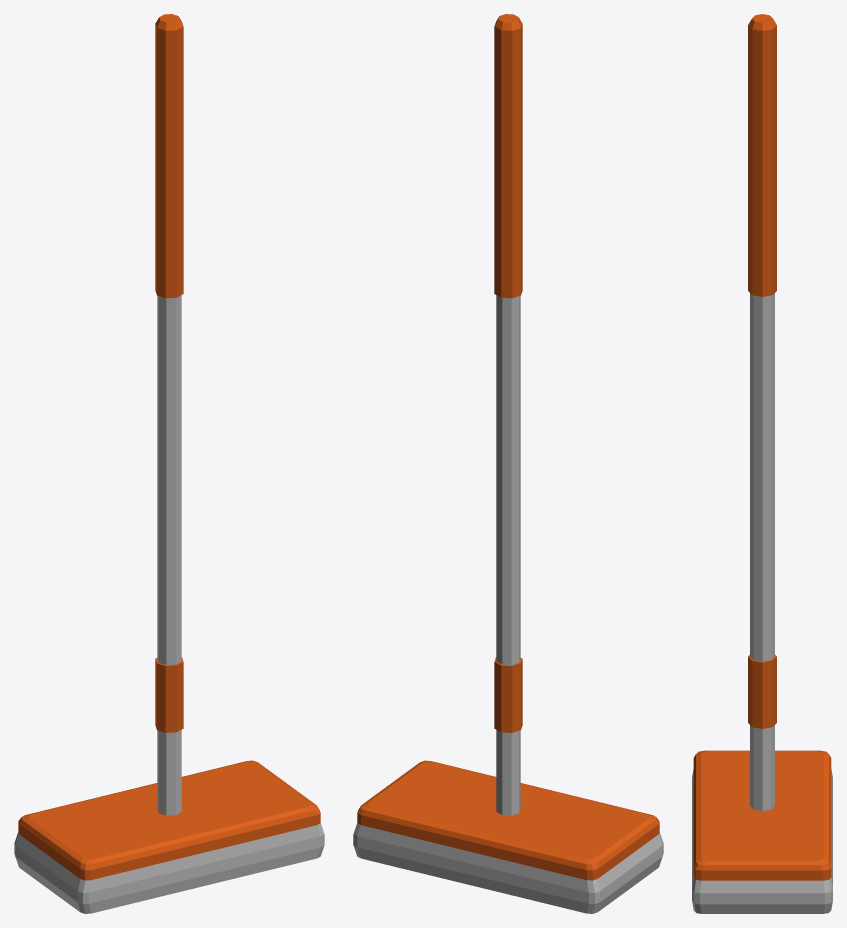
The model's file is Trapeador.fbx.
The picture shows the model from 3 angles, left to right: view 1: azimuth 30°, elevation 25°; view 2: azimuth 150°, elevation 25°; view 3: azimuth 270°, elevation 25°; orthographic projection.
Parts seen in each view (by area): view 1: Trapeador; view 2: Trapeador; view 3: Trapeador.
Boxes of the visible parts, left/top/right/bottom form: Trapeador: left=14, top=14, right=324, bottom=913; Trapeador: left=353, top=14, right=663, bottom=913; Trapeador: left=692, top=14, right=832, bottom=913.
Size of the model in its own units: 38.44 by 126 by 19.22.
